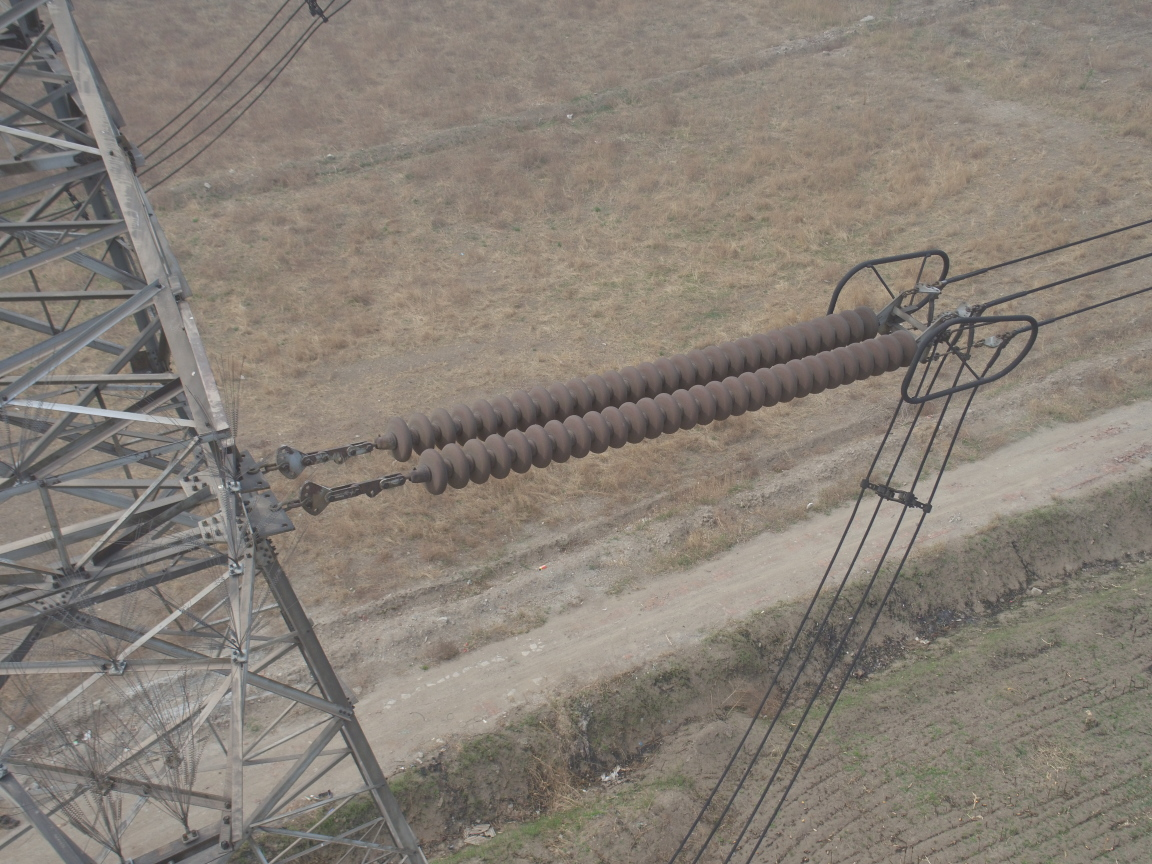insulator: (356, 300, 929, 498)
